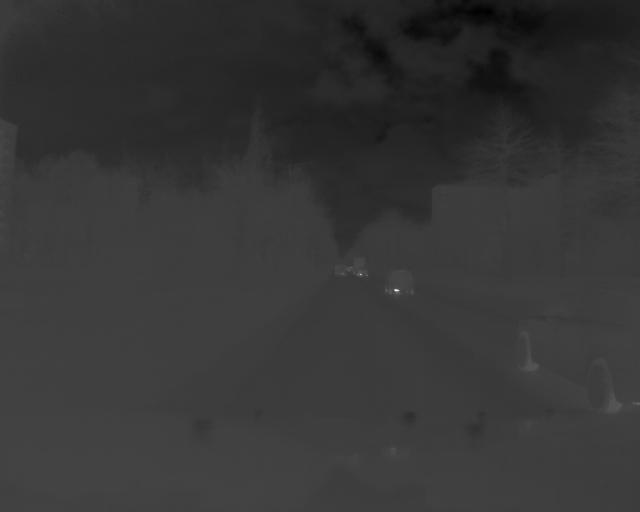car: (512, 289, 640, 417), (382, 268, 416, 299)
